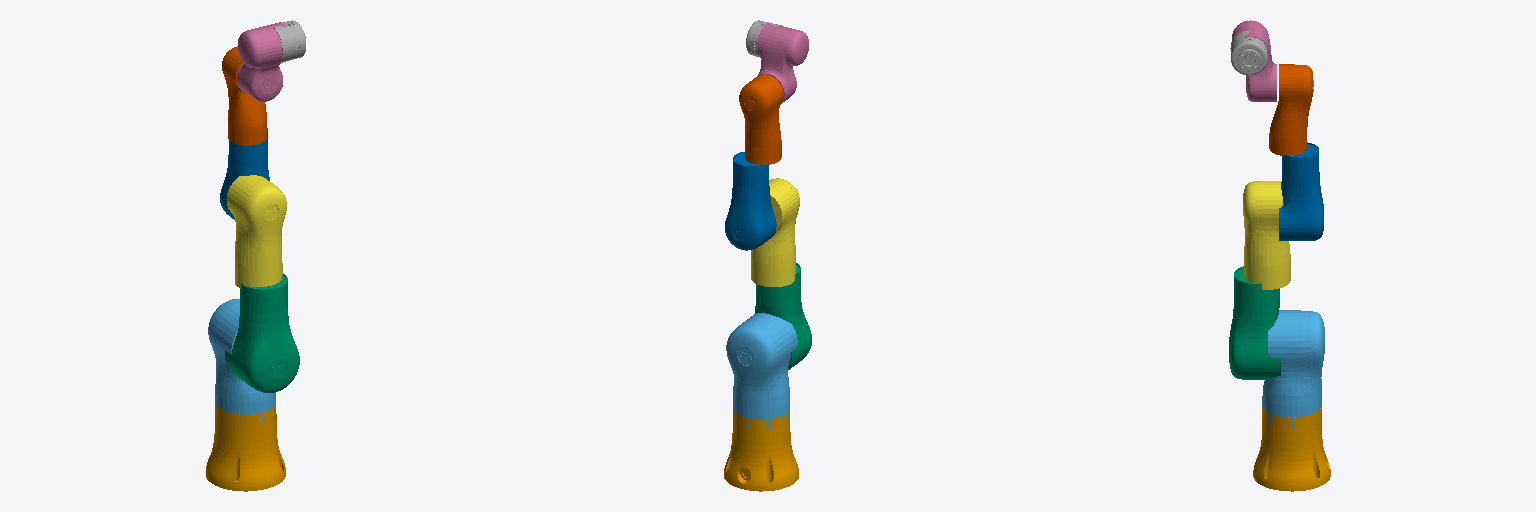
robot.urdf — Rizon4:
<?xml version="1.0"?>
<!-- ======================================================================== -->
<!-- |          Flexiv Rizon 4 (with blurred dynamic parameters)            | -->
<!-- ======================================================================== -->
<robot name="Rizon4">
    <joint name="joint1" type="revolute">
        <parent link="base_link" />
        <child link="link1" />
        <origin rpy="0.0 0.0 -3.141592653589793" xyz="0.0 0.0 0.155" />
        <axis xyz="0 0 1" />
        <limit effort="123" lower="-2.8798" upper="2.8798" velocity="2.0944" />
        <safety_controller k_position="100.0" k_velocity="40.0" soft_lower_limit="-2.7925"
            soft_upper_limit="2.7925" />
    </joint>
    <joint name="joint2" type="revolute">
        <parent link="link1" />
        <child link="link2" />
        <origin rpy="0.0 0.0 0.0" xyz="0.0 0.03 0.21" />
        <axis xyz="0 1 0" />
        <limit effort="123" lower="-2.3562" upper="2.3562" velocity="2.0944" />
        <safety_controller k_position="100.0" k_velocity="40.0" soft_lower_limit="-2.2689"
            soft_upper_limit="2.2689" />
    </joint>
    <joint name="joint3" type="revolute">
        <parent link="link2" />
        <child link="link3" />
        <origin rpy="0.0 0.0 0.0" xyz="0.0 0.035 0.205" />
        <axis xyz="0 0 1" />
        <limit effort="64" lower="-3.0543" upper="3.0543" velocity="2.4435" />
        <safety_controller k_position="100.0" k_velocity="40.0" soft_lower_limit="-2.9671"
            soft_upper_limit="2.9671" />
    </joint>
    <joint name="joint4" type="revolute">
        <parent link="link3" />
        <child link="link4" />
        <origin rpy="0.0 0.0 -3.141592653589793" xyz="-0.02 -0.03 0.19" />
        <axis xyz="0 1 0" />
        <limit effort="64" lower="-1.9548" upper="2.7751" velocity="2.4435" />
        <safety_controller k_position="100.0" k_velocity="40.0" soft_lower_limit="-1.8675"
            soft_upper_limit="2.6878" />
    </joint>
    <joint name="joint5" type="revolute">
        <parent link="link4" />
        <child link="link5" />
        <origin rpy="0.0 0.0 -3.141592653589793" xyz="-0.02 0.025 0.195" />
        <axis xyz="0 0 1" />
        <limit effort="39" lower="-3.0543" upper="3.0543" velocity="4.8869" />
        <safety_controller k_position="100.0" k_velocity="40.0" soft_lower_limit="-2.9671"
            soft_upper_limit="2.9671" />
    </joint>
    <joint name="joint6" type="revolute">
        <parent link="link5" />
        <child link="link6" />
        <origin rpy="0.0 0.0 0.0" xyz="0.0 0.03 0.19" />
        <axis xyz="0 1 0" />
        <limit effort="39" lower="-1.4835" upper="4.6251" velocity="4.8869" />
        <safety_controller k_position="100.0" k_velocity="40.0" soft_lower_limit="-1.3963"
            soft_upper_limit="4.5379" />
    </joint>
    <joint name="joint7" type="revolute">
        <parent link="link6" />
        <child link="link7" />
        <origin rpy="0.0 -1.5707963478683205 0.0" xyz="-0.015 0.073 0.11" />
        <axis xyz="0 0 1" />
        <limit effort="39" lower="-3.0543" upper="3.0543" velocity="4.8869" />
        <safety_controller k_position="100.0" k_velocity="40.0" soft_lower_limit="-2.9671"
            soft_upper_limit="2.9671" />
    </joint>
    <joint name="link7_to_flange" type="fixed">
        <parent link="link7" />
        <child link="flange" />
        <origin rpy="0.0 0.0 -3.141592653589793" xyz="0.0 0.0 0.081" />
    </joint>

    <link name="base_link">
        <inertial>
            <mass value="3.8" />
            <origin rpy="0 0 0" xyz="0.0 -0.0 0.09" />
            <inertia ixx="0.02" ixy="0.0" ixz="0.0" iyy="0.02" iyz="0.0" izz="0.01" />
        </inertial>
        <visual name="shell">
            <origin rpy="0 0 0" xyz="0 0 0" />
            <geometry>
                <mesh filename="package://meshes/Rizon4/visual/link0.obj" />
            </geometry>
        </visual>
        <collision name="convex_mesh">
            <origin rpy="0 0 0" xyz="0 0 0" />
            <geometry>
                <mesh filename="package://meshes/Rizon4/collision/link0.stl" />
            </geometry>
        </collision>
        <workspace>
            <origin rpy="0 0 0" xyz="0 0 0.365" />
            <geometry>
                <sphere radius="0.890" />
            </geometry>
        </workspace>
    </link>
    <link name="link1">
        <inertial>
            <mass value="3.6" />
            <origin rpy="0 0 0" xyz="0.0 0.0 0.15" />
            <inertia ixx="0.03" ixy="0.0" ixz="0.0" iyy="0.03" iyz="0.0" izz="0.01" />
        </inertial>
        <visual name="shell">
            <origin rpy="0 0 0" xyz="0 0 0" />
            <geometry>
                <mesh filename="package://meshes/Rizon4/visual/link1.obj" />
            </geometry>
        </visual>
        <visual name="ring">
            <origin rpy="0 0 0" xyz="0 0 -0.0025" />
            <geometry>
                <mesh filename="package://meshes/Rizon4/visual/ring.obj" scale="0.062 0.062 0.002" />
            </geometry>
        </visual>
        <collision name="convex_mesh">
            <origin rpy="0 0 0" xyz="0 0 0" />
            <geometry>
                <mesh filename="package://meshes/Rizon4/collision/link1.stl" />
            </geometry>
        </collision>
    </link>
    <link name="link2">
        <inertial>
            <mass value="2.7" />
            <origin rpy="0 0 0" xyz="-0.0 0.04 0.1" />
            <inertia ixx="0.02" ixy="0.0" ixz="0.0" iyy="0.02" iyz="-0.0" izz="0.0" />
        </inertial>
        <visual name="shell">
            <origin rpy="0 0 0" xyz="0 0 0" />
            <geometry>
                <mesh filename="package://meshes/Rizon4/visual/link2.obj" />
            </geometry>
        </visual>
        <visual name="ring">
            <origin rpy="1.5707963 0 0" xyz="0 -0.0025 0" />
            <geometry>
                <mesh filename="package://meshes/Rizon4/visual/ring.obj" scale="0.062 0.062 0.002" />
            </geometry>
        </visual>
        <collision name="convex_mesh">
            <origin rpy="0 0 0" xyz="0 0 0" />
            <geometry>
                <mesh filename="package://meshes/Rizon4/collision/link2.stl" />
            </geometry>
        </collision>
    </link>
    <link name="link3">
        <inertial>
            <mass value="2.4" />
            <origin rpy="0 0 0" xyz="-0.01 -0.0 0.14" />
            <inertia ixx="0.01" ixy="0.0" ixz="-0.0" iyy="0.01" iyz="-0.0" izz="0.0" />
        </inertial>
        <visual name="shell">
            <origin rpy="0 0 0" xyz="0 0 0" />
            <geometry>
                <mesh filename="package://meshes/Rizon4/visual/link3.obj" />
            </geometry>
        </visual>
        <visual name="ring">
            <origin rpy="0 0 0" xyz="0 0 -0.0025" />
            <geometry>
                <mesh filename="package://meshes/Rizon4/visual/ring.obj" scale="0.051 0.051 0.002" />
            </geometry>
        </visual>
        <collision name="convex_mesh">
            <origin rpy="0 0 0" xyz="0 0 0" />
            <geometry>
                <mesh filename="package://meshes/Rizon4/collision/link3.stl" />
            </geometry>
        </collision>
    </link>
    <link name="link4">
        <inertial>
            <mass value="2.4" />
            <origin rpy="0 0 0" xyz="-0.01 0.03 0.1" />
            <inertia ixx="0.02" ixy="0.0" ixz="-0.0" iyy="0.02" iyz="-0.0" izz="0.0" />
        </inertial>
        <visual name="shell">
            <origin rpy="0 0 0" xyz="0 0 0" />
            <geometry>
                <mesh filename="package://meshes/Rizon4/visual/link4.obj" />
            </geometry>
        </visual>
        <visual name="ring">
            <origin rpy="1.5707963 0 0" xyz="0 -0.0025 0" />
            <geometry>
                <mesh filename="package://meshes/Rizon4/visual/ring.obj" scale="0.051 0.051 0.002" />
            </geometry>
        </visual>
        <collision name="convex_mesh">
            <origin rpy="0 0 0" xyz="0 0 0" />
            <geometry>
                <mesh filename="package://meshes/Rizon4/collision/link4.stl" />
            </geometry>
        </collision>
    </link>
    <link name="link5">
        <inertial>
            <mass value="2.3" />
            <origin rpy="0 0 0" xyz="0.0 0.0 0.14" />
            <inertia ixx="0.01" ixy="0.0" ixz="0.0" iyy="0.01" iyz="0.0" izz="0.0" />
        </inertial>
        <visual name="shell">
            <origin rpy="0 0 0" xyz="0 0 0" />
            <geometry>
                <mesh filename="package://meshes/Rizon4/visual/link5.obj" />
            </geometry>
        </visual>
        <visual name="ring">
            <origin rpy="0 0 0" xyz="0 0 -0.0025" />
            <geometry>
                <mesh filename="package://meshes/Rizon4/visual/ring.obj" scale="0.051 0.051 0.002" />
            </geometry>
        </visual>
        <collision name="convex_mesh">
            <origin rpy="0 0 0" xyz="0 0 0" />
            <geometry>
                <mesh filename="package://meshes/Rizon4/collision/link5.stl" />
            </geometry>
        </collision>
    </link>
    <link name="link6">
        <inertial>
            <mass value="2.2" />
            <origin rpy="0 0 0" xyz="0.02 0.06 0.07" />
            <inertia ixx="0.01" ixy="0.0" ixz="0.0" iyy="0.01" iyz="0.0" izz="0.0" />
        </inertial>
        <visual name="shell">
            <origin rpy="0 0 0" xyz="0 0 0" />
            <geometry>
                <mesh filename="package://meshes/Rizon4/visual/link6.obj" />
            </geometry>
        </visual>
        <visual name="ring">
            <origin rpy="1.5707963 0 0" xyz="0 -0.0025 0" />
            <geometry>
                <mesh filename="package://meshes/Rizon4/visual/ring.obj" scale="0.051 0.051 0.002" />
            </geometry>
        </visual>
        <collision name="convex_mesh">
            <origin rpy="0 0 0" xyz="0 0 0" />
            <geometry>
                <mesh filename="package://meshes/Rizon4/collision/link6.stl" />
            </geometry>
        </collision>
    </link>
    <link name="link7">
        <inertial>
            <mass value="0.8" />
            <origin rpy="0 0 0" xyz="0.0 0.0 0.03" />
            <inertia ixx="0.0" ixy="0.0" ixz="0.0" iyy="0.0" iyz="0.0" izz="0.0" />
        </inertial>
        <visual name="shell">
            <origin rpy="0 0 0" xyz="0 0 0" />
            <geometry>
                <mesh filename="package://meshes/Rizon4/visual/link7.obj" />
            </geometry>
        </visual>
        <visual name="ring">
            <origin rpy="0 0 0" xyz="0 0 -0.0025" />
            <geometry>
                <mesh filename="package://meshes/Rizon4/visual/ring.obj" scale="0.051 0.051 0.002" />
            </geometry>
        </visual>
        <collision name="convex_mesh">
            <origin rpy="0 0 0" xyz="0 0 0" />
            <geometry>
                <mesh filename="package://meshes/Rizon4/collision/link7.stl" />
            </geometry>
        </collision>
    </link>
    <link name="flange">
        <inertial>
            <mass value="0.0" />
            <origin rpy="0 0 0" xyz="0.0 0.0 0.0" />
            <inertia ixx="0.0" ixy="0.0" ixz="0.0" iyy="0.0" iyz="0.0" izz="0.0" />
        </inertial>
    </link>
</robot>

--- Render facts (derived) ---
3 views of the same robot in one strip: view 1: azimuth 30°, elevation 25°; view 2: azimuth 150°, elevation 25°; view 3: azimuth 270°, elevation 25° (orthographic).
Robot: Rizon4 — 9 links, 8 joints (7 revolute, 1 fixed); root link base_link; default pose: all joints at 0.
Visible links, largest first — view 1: link2, link3, base_link, link1, link6, link5, link4, link7; view 2: link1, base_link, link4, link3, link5, link6, link2; view 3: link1, base_link, link2, link3, link4, link5, link6, link7.
Boxes of the visible links, box(x1,y1,x2,y2) form: link2: box(225, 274, 299, 392); link3: box(226, 175, 286, 288); base_link: box(206, 404, 285, 491); link1: box(208, 299, 275, 425); link6: box(237, 22, 286, 101); link5: box(222, 46, 266, 145); link4: box(220, 128, 269, 219); link7: box(272, 20, 305, 62); link1: box(726, 313, 797, 429); base_link: box(724, 410, 798, 491); link4: box(725, 152, 776, 250); link3: box(751, 178, 799, 286); link5: box(739, 74, 783, 164); link6: box(757, 23, 808, 103); link2: box(755, 263, 811, 369); link1: box(1262, 310, 1324, 428); base_link: box(1253, 406, 1330, 491); link2: box(1229, 266, 1280, 379); link3: box(1243, 181, 1290, 289); link4: box(1279, 142, 1323, 240); link5: box(1269, 64, 1313, 155); link6: box(1232, 20, 1276, 101); link7: box(1230, 31, 1267, 75).
Size in the robot's own frame: 0.206 by 0.2698 by 1.3 metres.
8 mesh visuals loaded from 9 distinct referenced files (8 OBJ); not drawn: 7 (file found but could not be loaded).